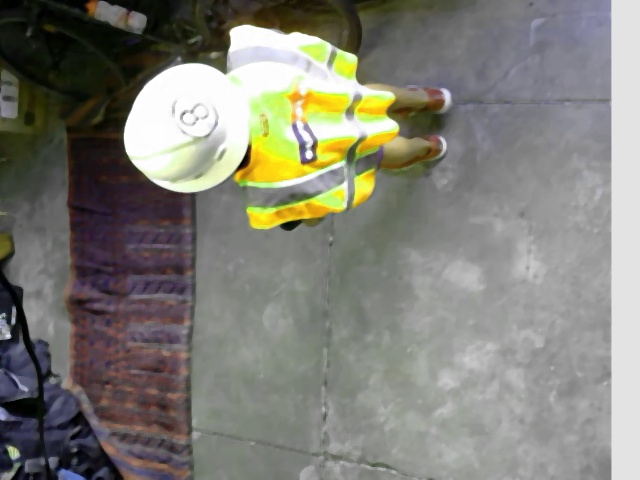eight: (169, 89, 218, 140)
